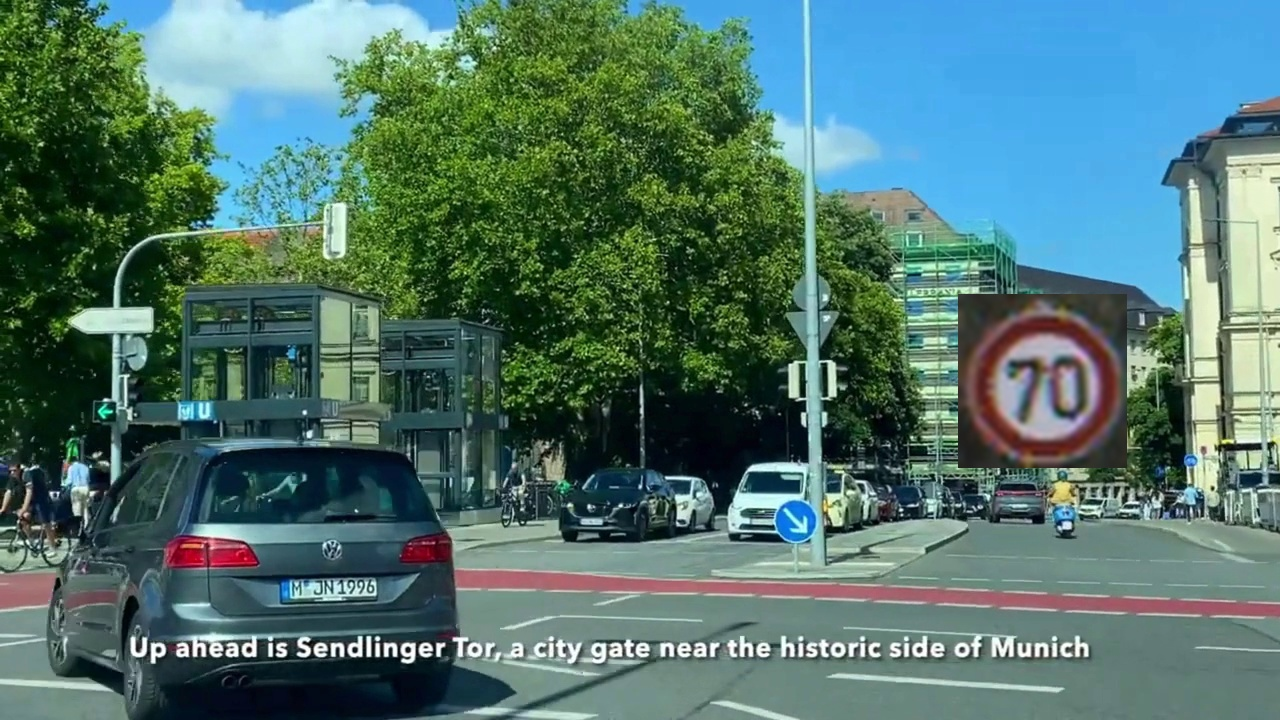Speed 70: (958, 294, 1127, 468)
